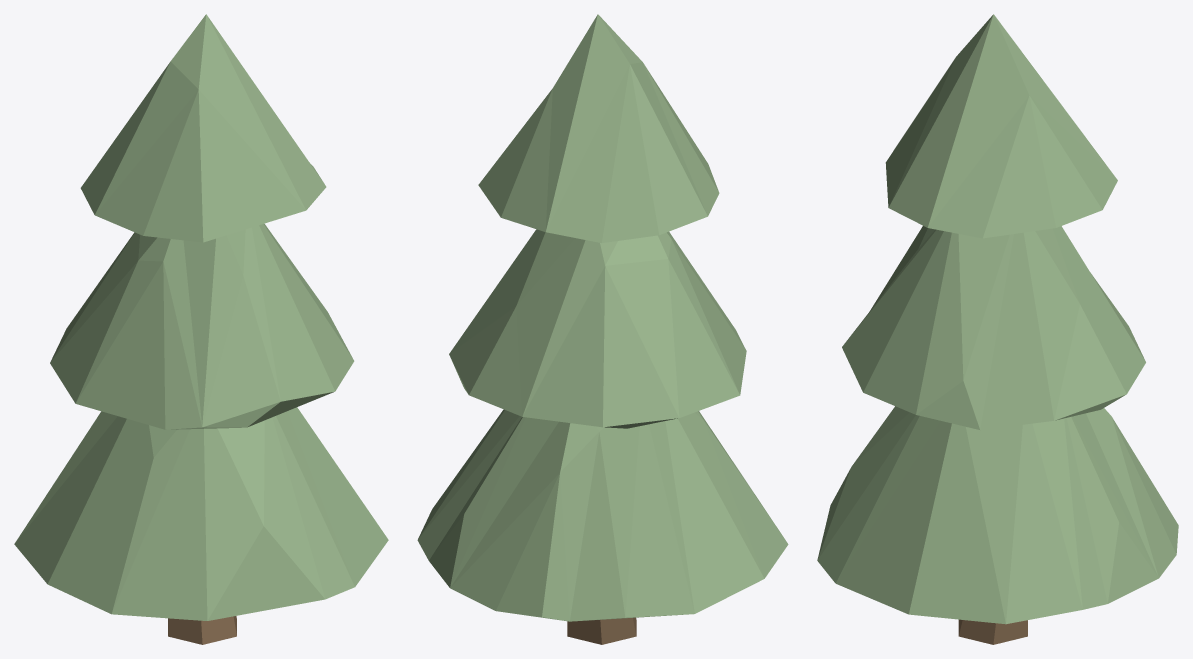
File: pineTreeSmall_Green.fbx
The picture shows the model from 3 angles, left to right: view 1: azimuth 30°, elevation 25°; view 2: azimuth 150°, elevation 25°; view 3: azimuth 270°, elevation 25°; orthographic projection.
Visible parts, largest first — view 1: Leaves, Branch; view 2: Leaves, Branch; view 3: Leaves, Branch.
Boxes of the visible parts, <box> form: Leaves: <box>14,14,388,620</box>; Branch: <box>168,616,236,644</box>; Leaves: <box>417,14,788,621</box>; Branch: <box>567,617,636,644</box>; Leaves: <box>817,14,1178,624</box>; Branch: <box>958,619,1027,644</box>.
Size of the model in its own units: 3.78 by 6.88 by 3.66.
